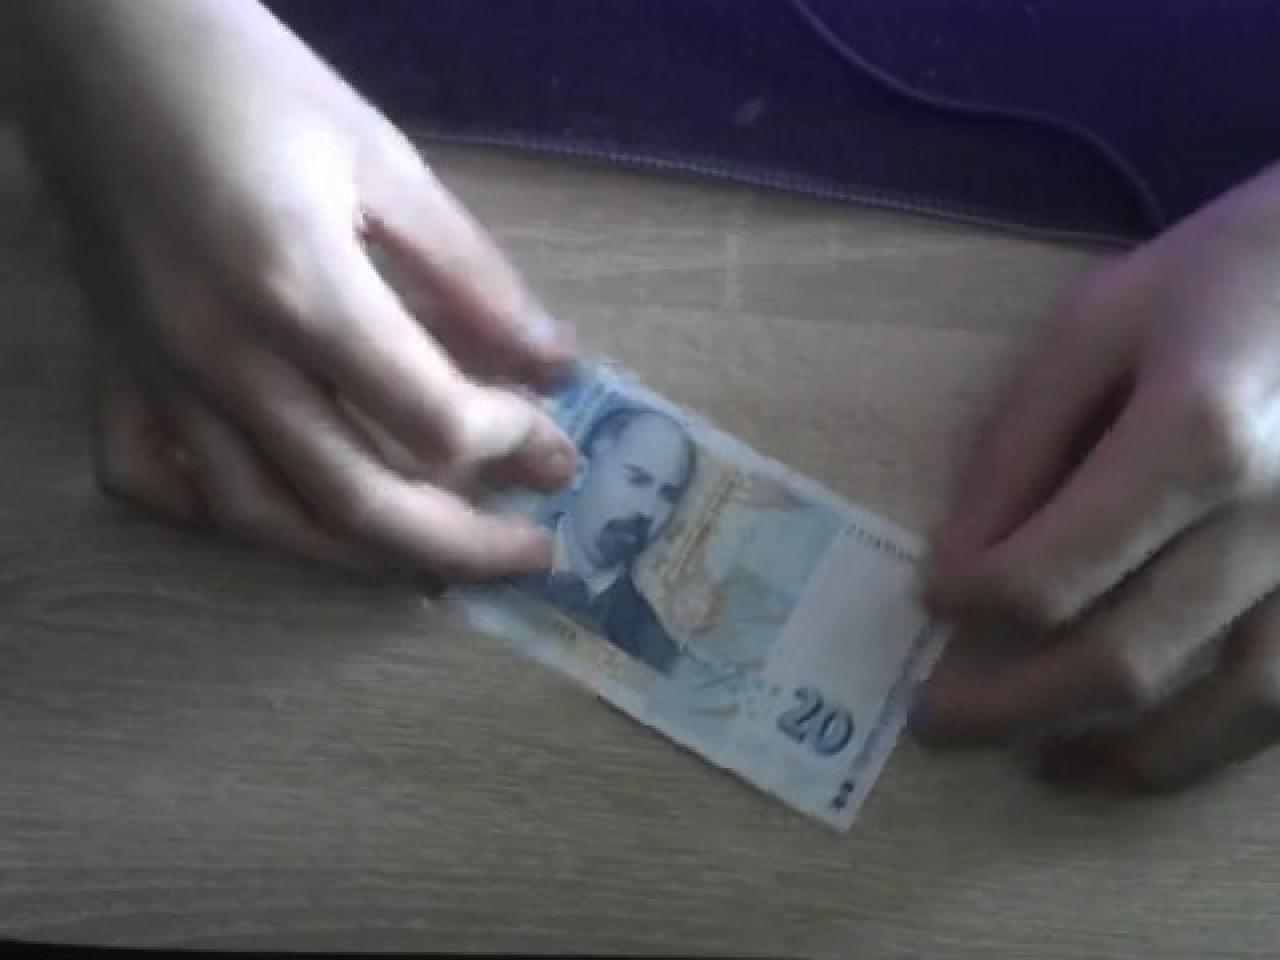20leva: (440, 360, 949, 837)
